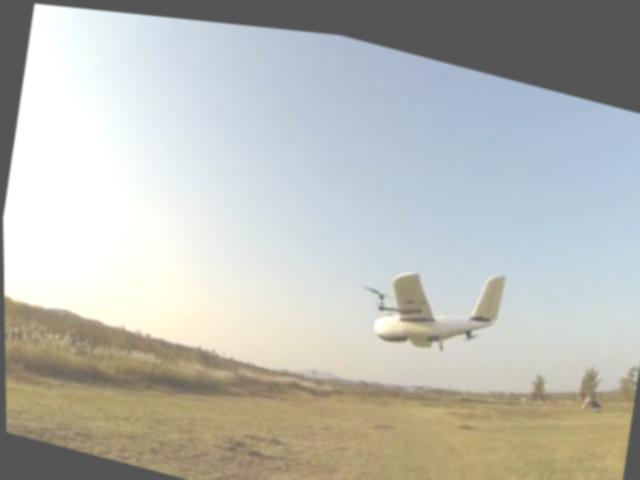uav: (356, 217, 516, 384)
